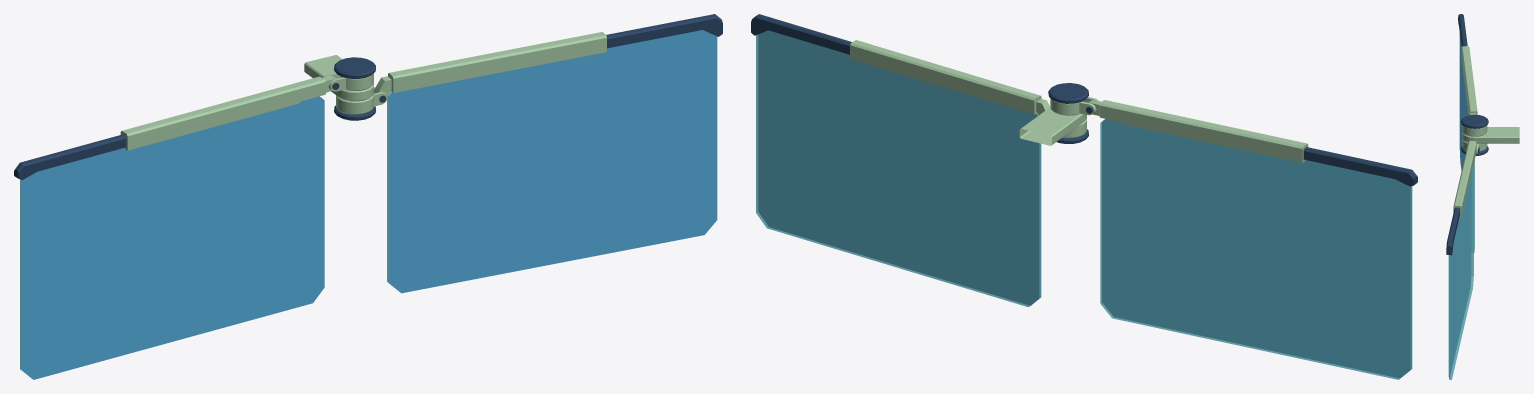
Rendered from Misc_CyberScreenWall_A.fbx.
The picture shows the model from 3 angles, left to right: view 1: azimuth 30°, elevation 25°; view 2: azimuth 150°, elevation 25°; view 3: azimuth 270°, elevation 25°; orthographic projection. The views are drawn at different scales.
Visible parts, largest first — view 1: Misc_CyberScreenWall_A.001; view 2: Misc_CyberScreenWall_A.001; view 3: Misc_CyberScreenWall_A.001.
Part boxes in pixels (x1=…): Misc_CyberScreenWall_A.001: x1=14, y1=14, x2=722, y2=379; Misc_CyberScreenWall_A.001: x1=751, y1=14, x2=1417, y2=379; Misc_CyberScreenWall_A.001: x1=1446, y1=14, x2=1519, y2=379.
Size of the model in its own units: 1.02 by 0.3315 by 0.1421.
